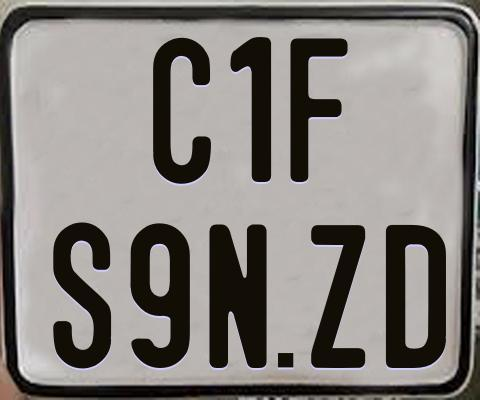1: (227, 37, 271, 183)
9: (130, 221, 195, 368)
C: (153, 36, 211, 185)
D: (386, 223, 446, 366)
F: (287, 38, 351, 187)
N: (208, 224, 272, 373)
S: (51, 222, 113, 371)
Z: (309, 223, 363, 366)
